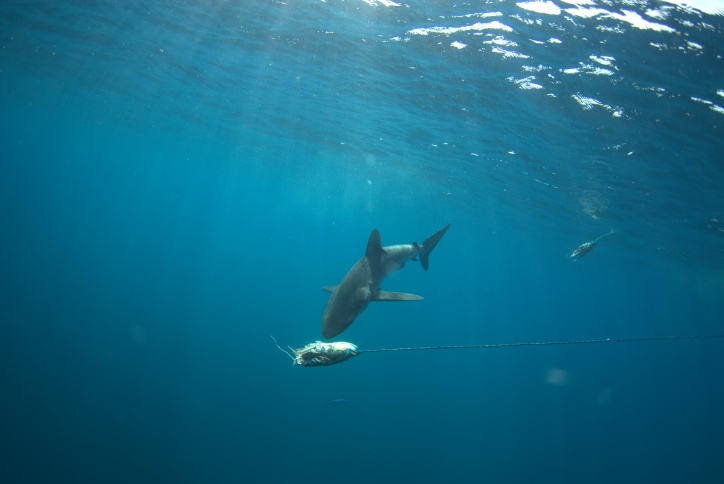Sedoso: (314, 207, 459, 342)
